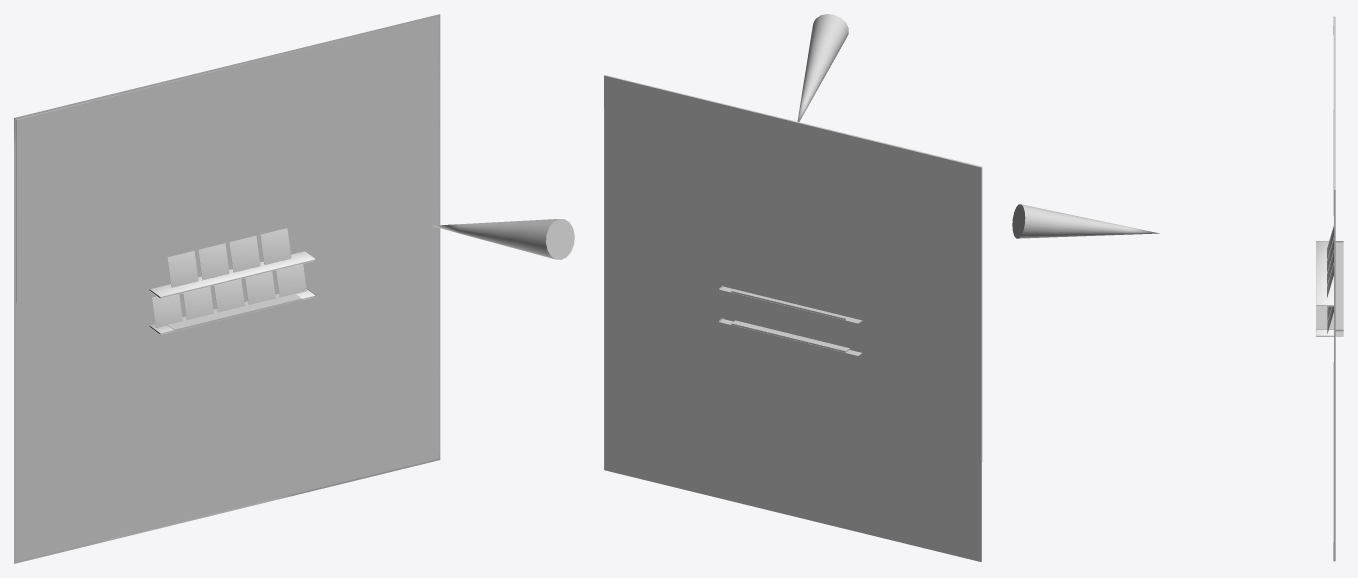
The model's file is shelf.glb.
3 renders of one model, left to right at view 1: azimuth 30°, elevation 25°; view 2: azimuth 150°, elevation 25°; view 3: azimuth 270°, elevation 25°, orthographic. The views are drawn at different scales.
Parts seen in each view (by area): view 1: ShadowCatcher.NEW, 10.Records_ShelfWall, BOTTOM, TOP, LightAngle.Ref; view 2: ShadowCatcher.NEW, LightAngle.Ref; view 3: LightAngle.Ref, ShadowCatcher.NEW, 10.Records_ShelfWall.
Part boxes in pixels (x1,y1,x2,y2): ShadowCatcher.NEW: (16, 17, 438, 561); 10.Records_ShelfWall: (14, 14, 440, 563); BOTTOM: (152, 264, 306, 327); TOP: (167, 228, 291, 287); LightAngle.Ref: (431, 219, 574, 259); ShadowCatcher.NEW: (604, 75, 982, 561); LightAngle.Ref: (797, 14, 848, 121); LightAngle.Ref: (1012, 204, 1159, 238); ShadowCatcher.NEW: (1316, 16, 1343, 561); 10.Records_ShelfWall: (1316, 241, 1333, 336).
Size of the model in its own units: 5.23 by 5.23 by 4.19.
Materials: 1 (1 with a texture image).
